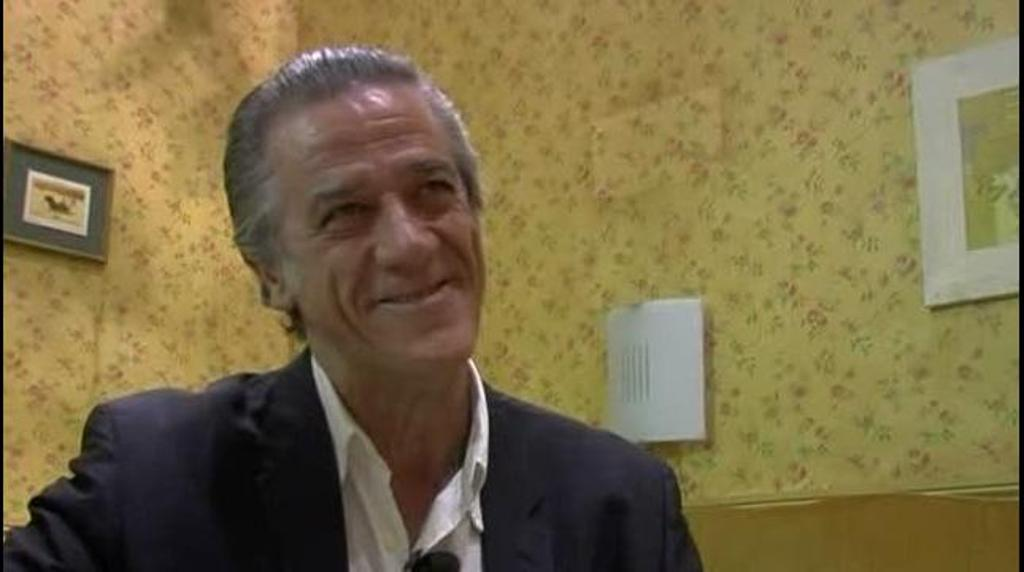face: (294, 104, 484, 366)
